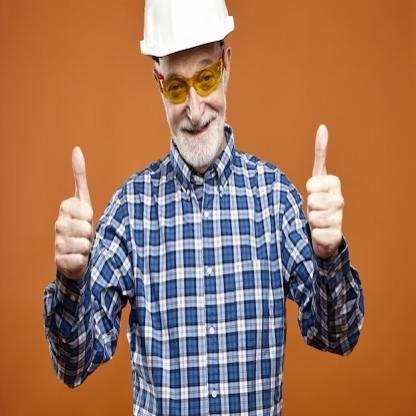thumb_up: (52, 144, 97, 277), (304, 121, 346, 254)
